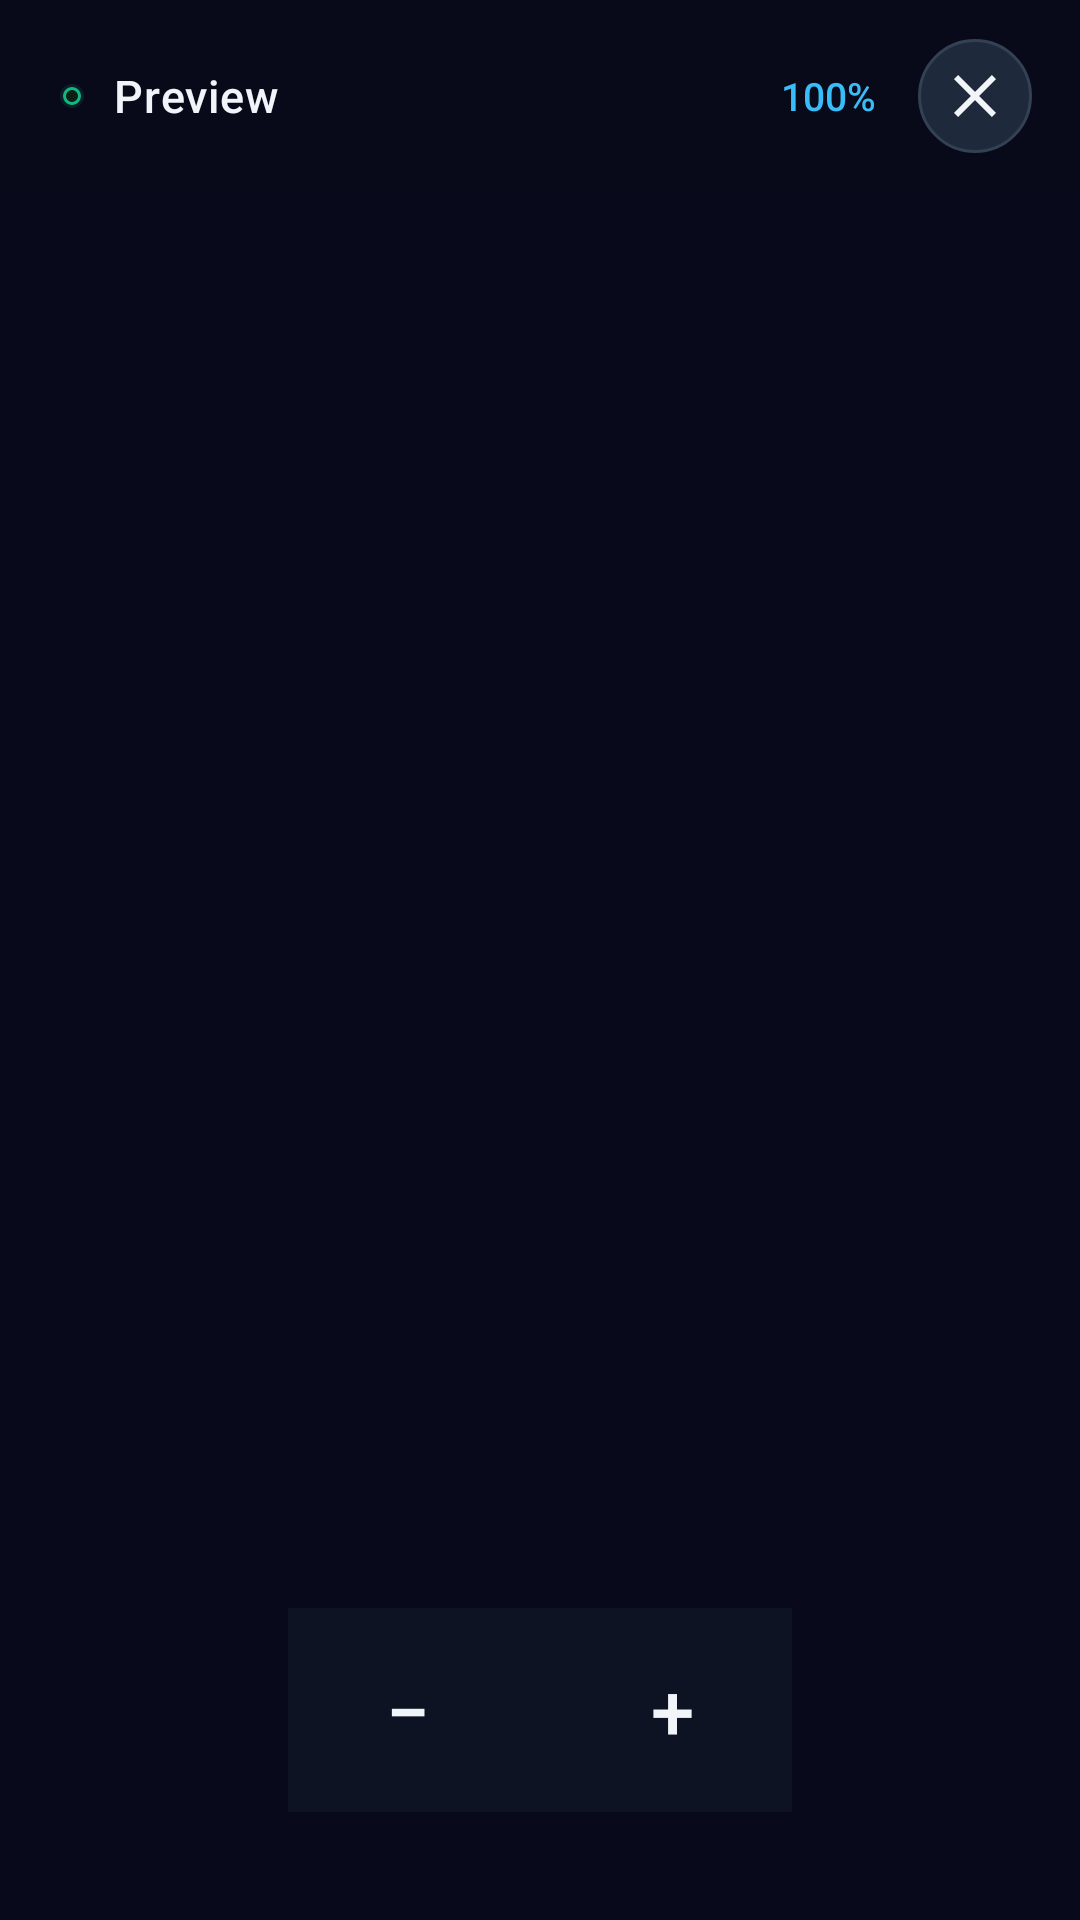

Named icons in this screenshot (1080px x 1920px) and their bounding boxes, (x1, y1, x2, y2):
Close: (918, 39, 1032, 153)
